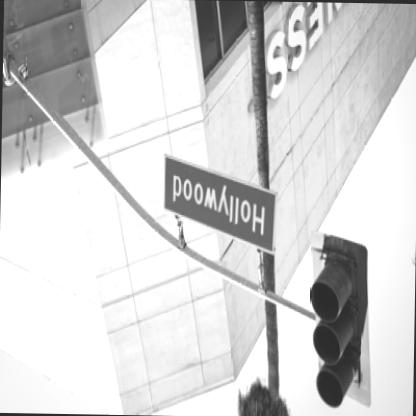trafficlight: (308, 231, 375, 411)
